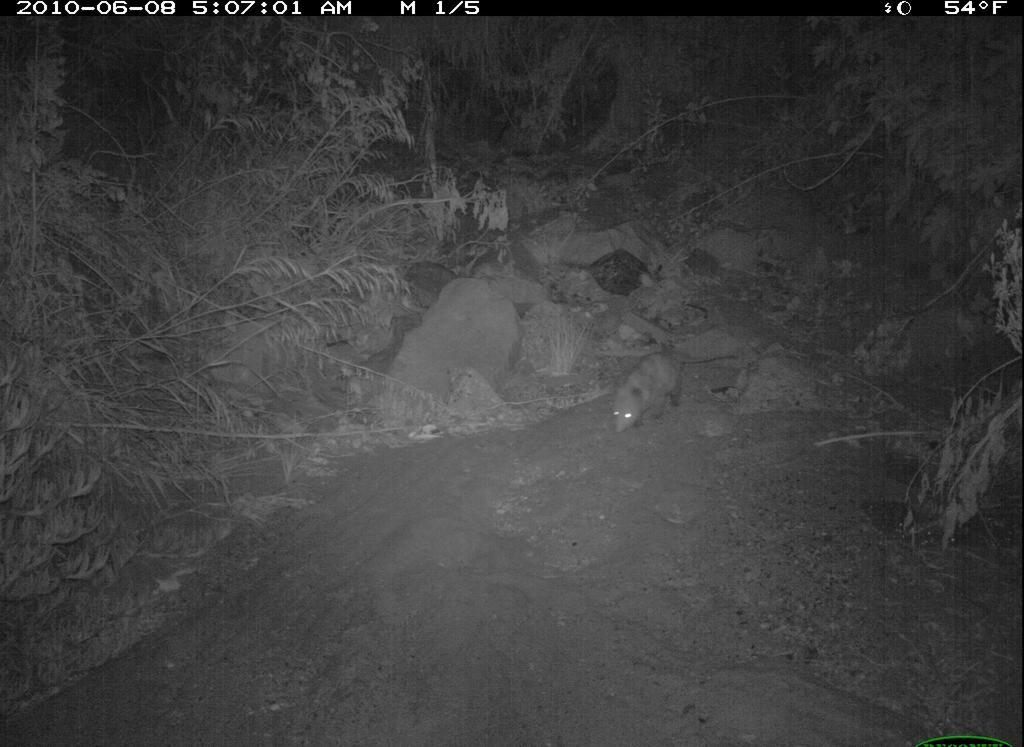opossum: (605, 342, 740, 437)
